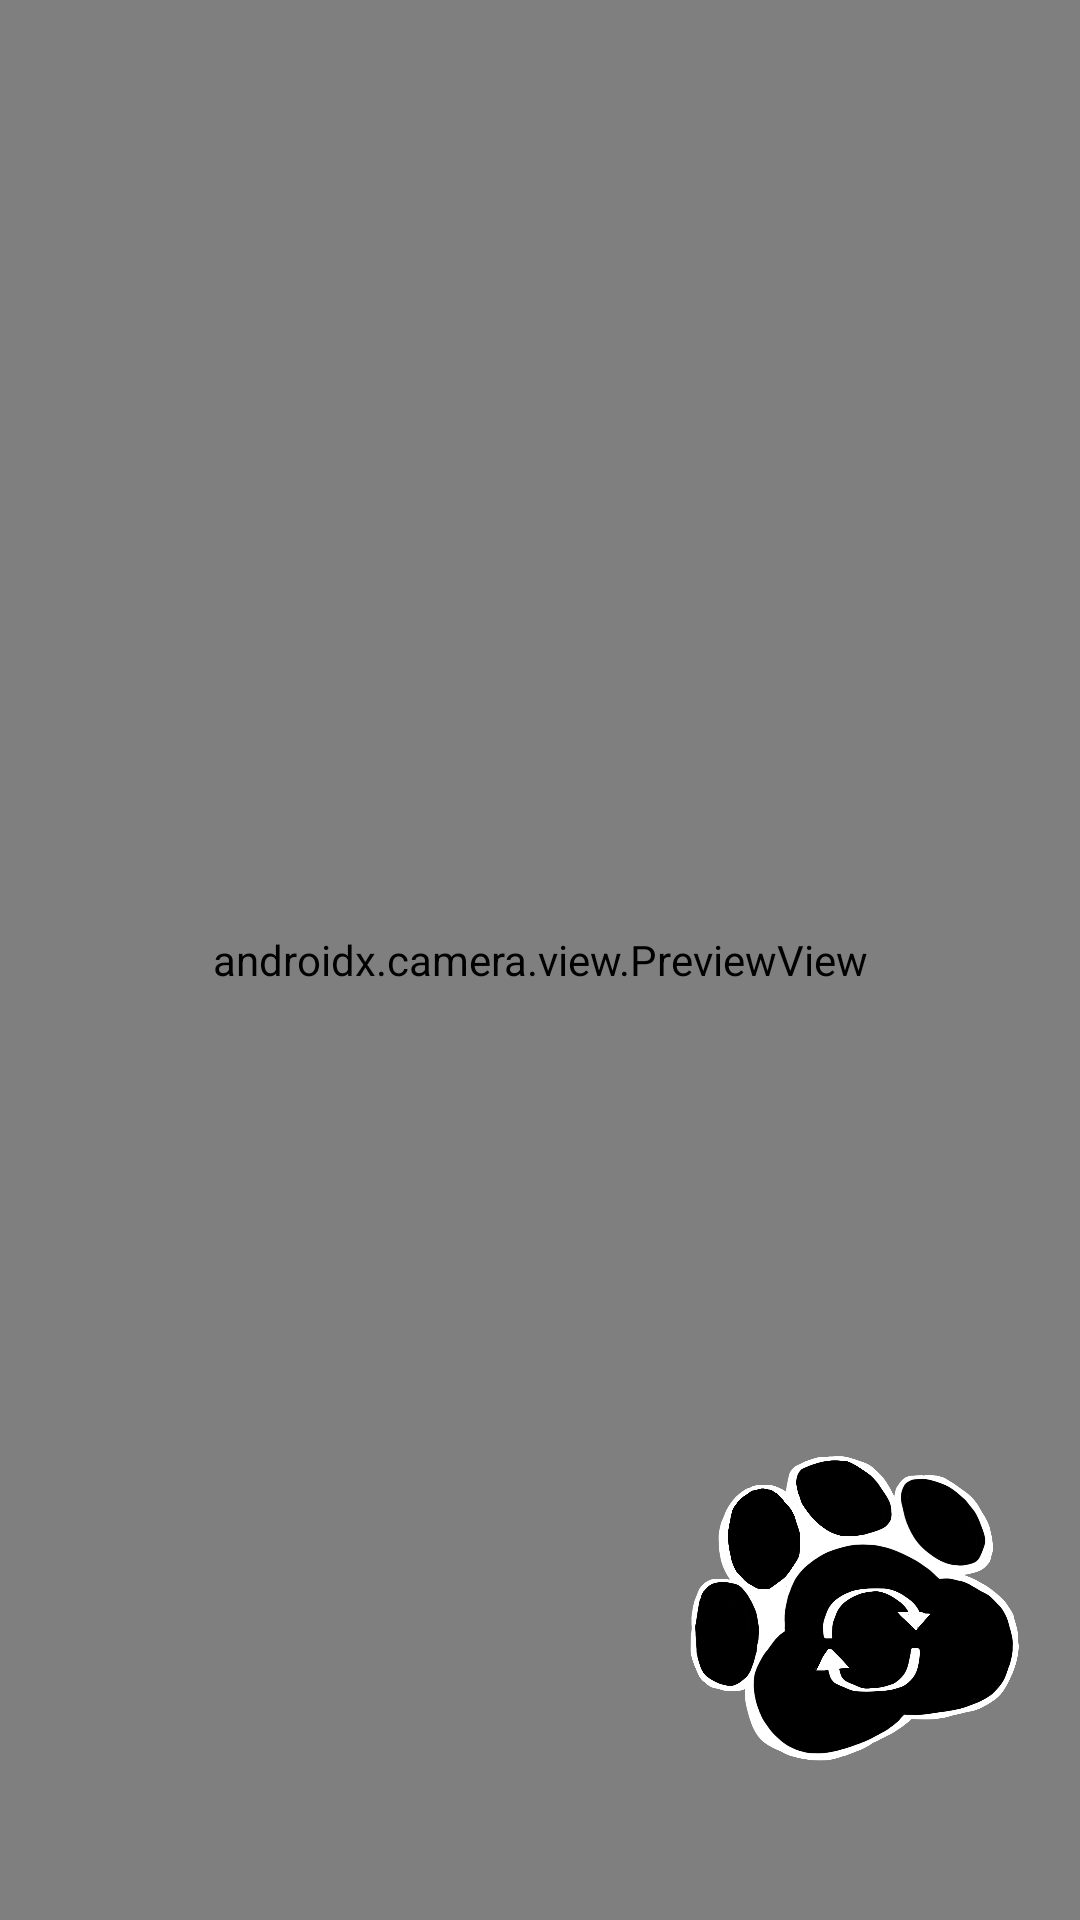

Icon click points for this 1080*1920 phone screenshot, format (x=x, y=y):
flip camera: (x=854, y=1608)
